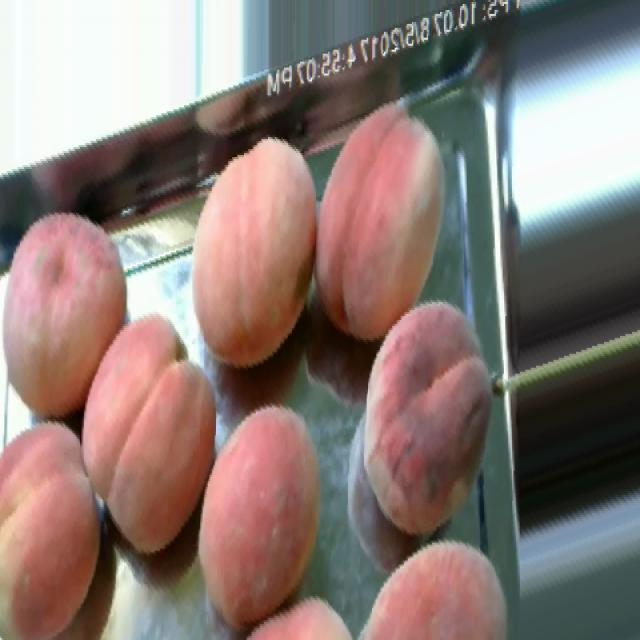Fruit: (60, 293, 251, 576), (162, 389, 349, 640), (157, 111, 320, 390), (312, 80, 471, 360), (358, 286, 518, 559), (0, 191, 152, 439), (0, 397, 132, 640), (346, 526, 524, 640)
